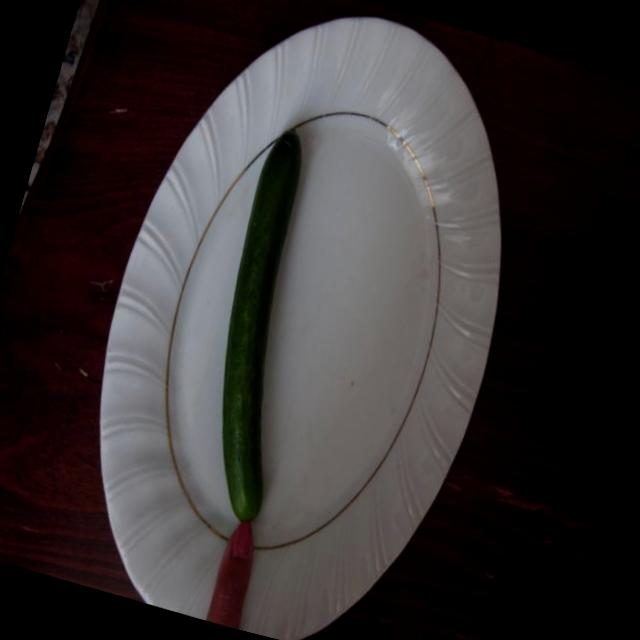Cucumber: (161, 111, 375, 526)
Finger: (198, 511, 277, 625)
